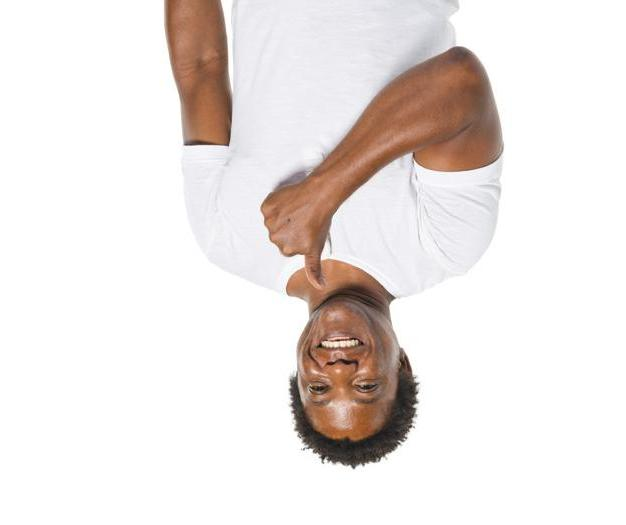thumbsdown: (260, 194, 328, 291)
